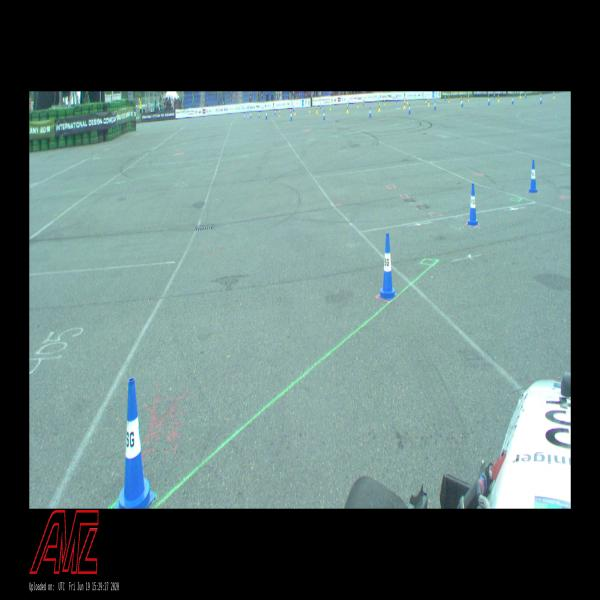blue_cone: (114, 377, 155, 508), (378, 232, 398, 300), (466, 184, 479, 226), (528, 160, 538, 193)
